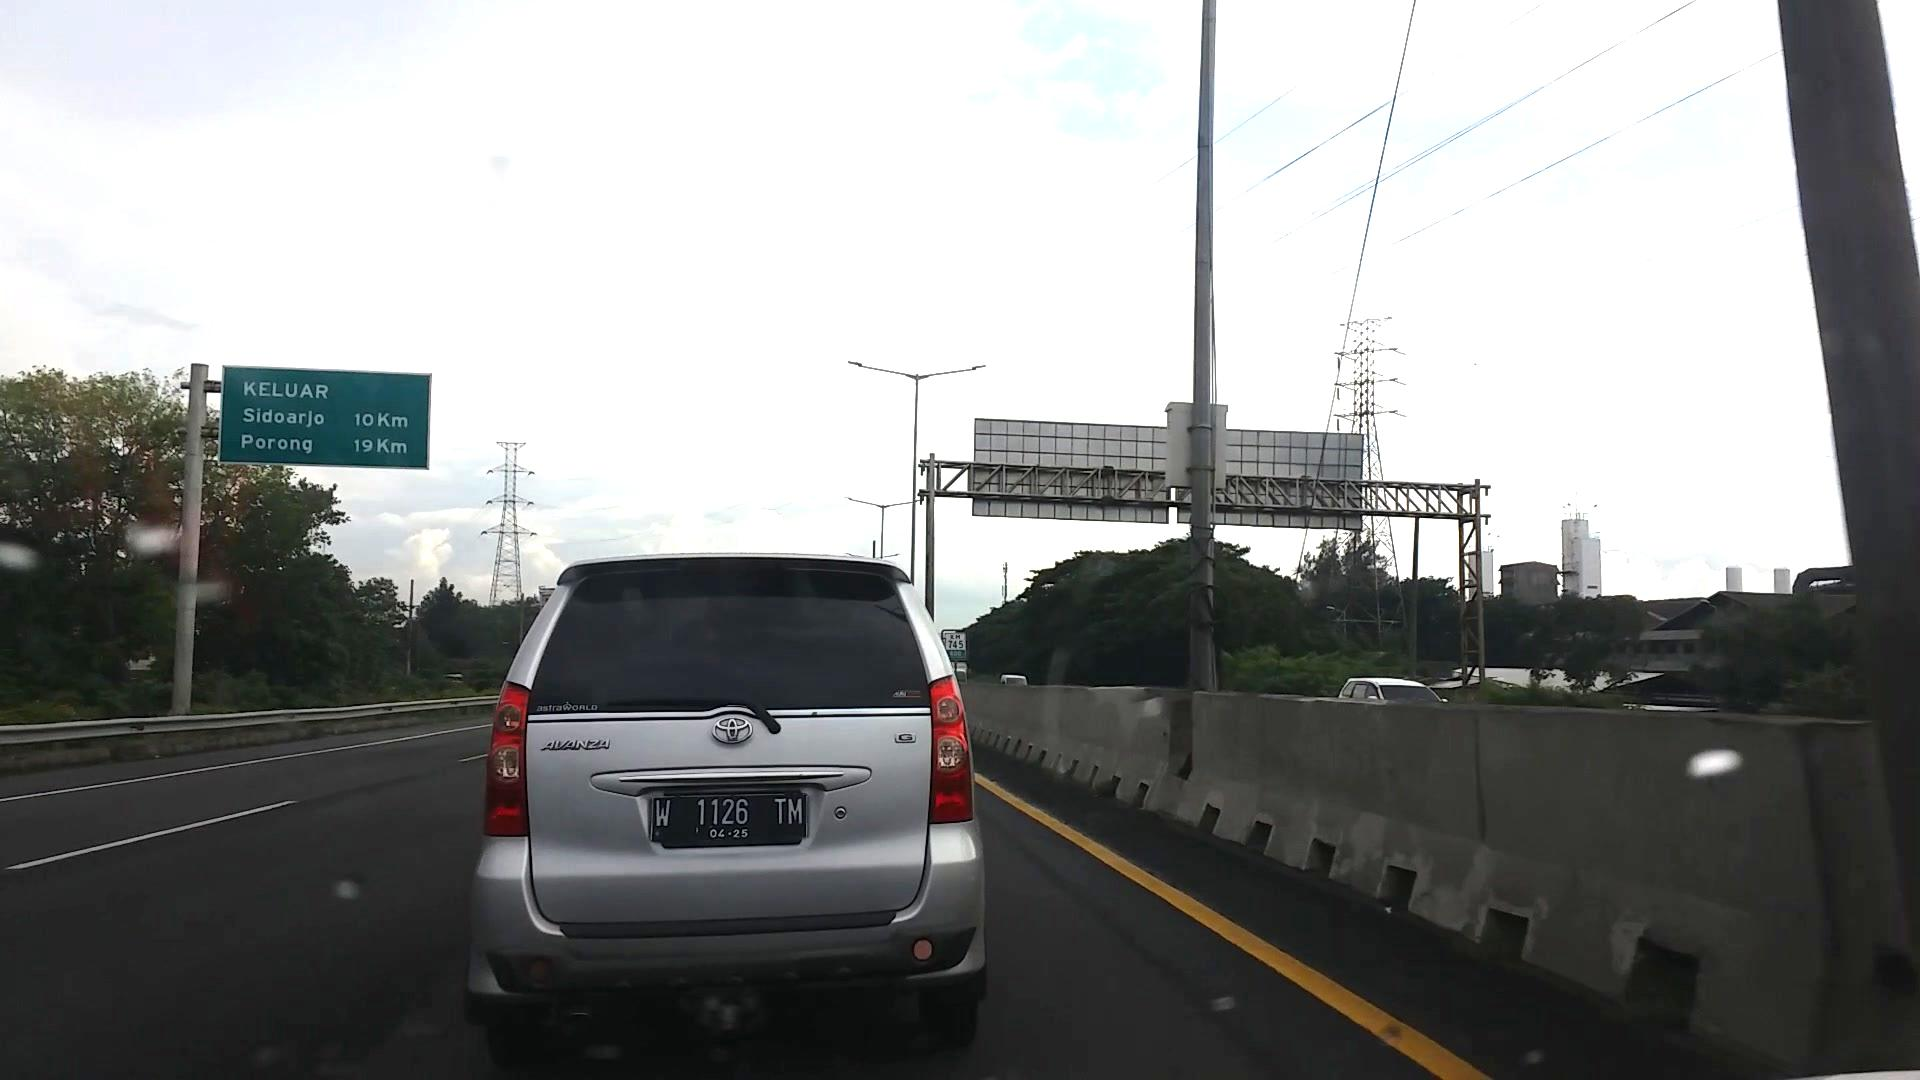plate_positive: (650, 796, 807, 837)
